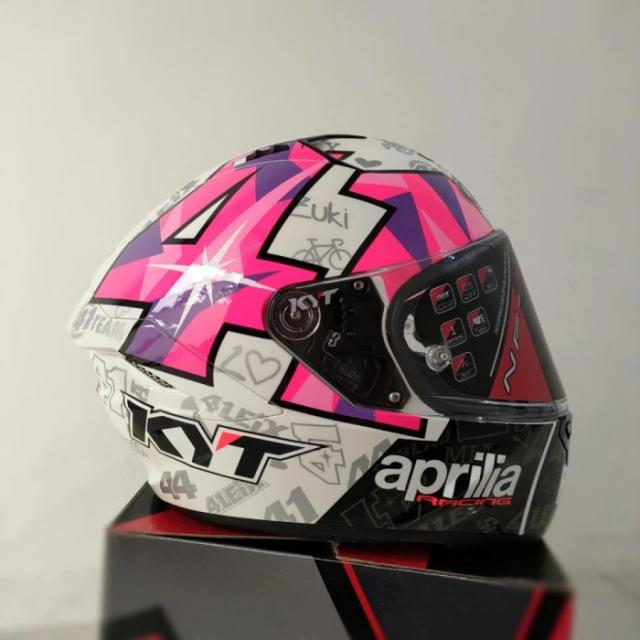Helm: (62, 125, 586, 550)
